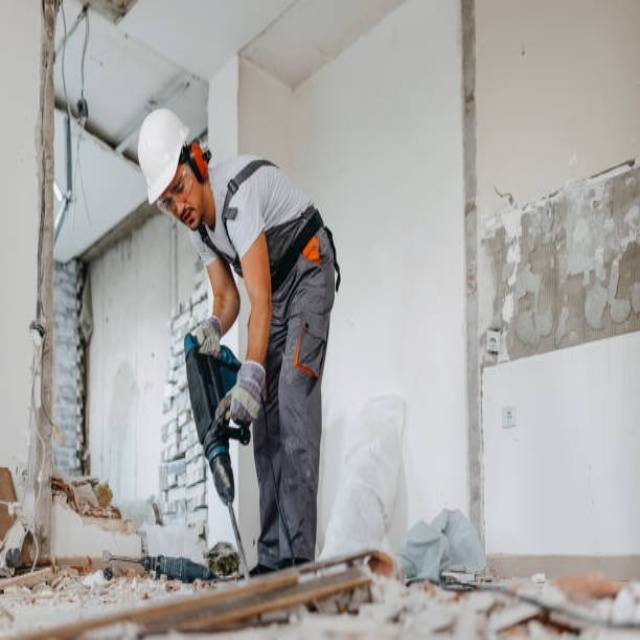Gafas: (156, 163, 191, 220)
Guantes: (218, 360, 266, 429), (191, 316, 223, 358)
Sin_mascara: (180, 198, 200, 234)
